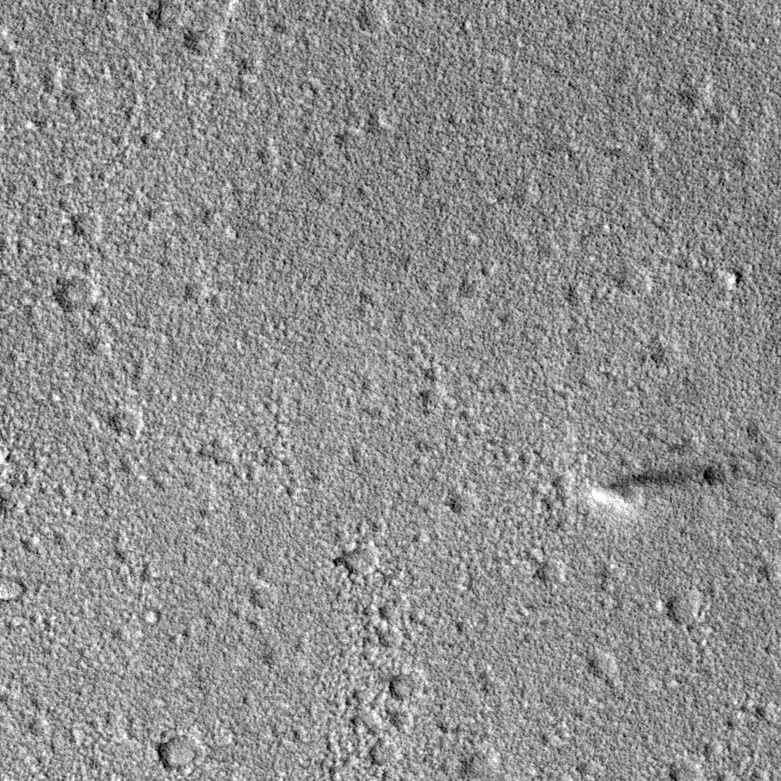dust_devil: (577, 457, 743, 520), (214, 0, 298, 51)
